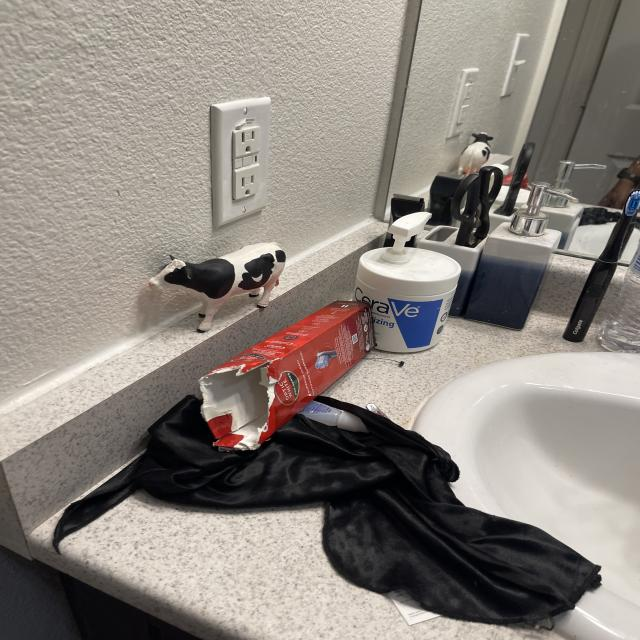cow: (144, 220, 301, 345)
